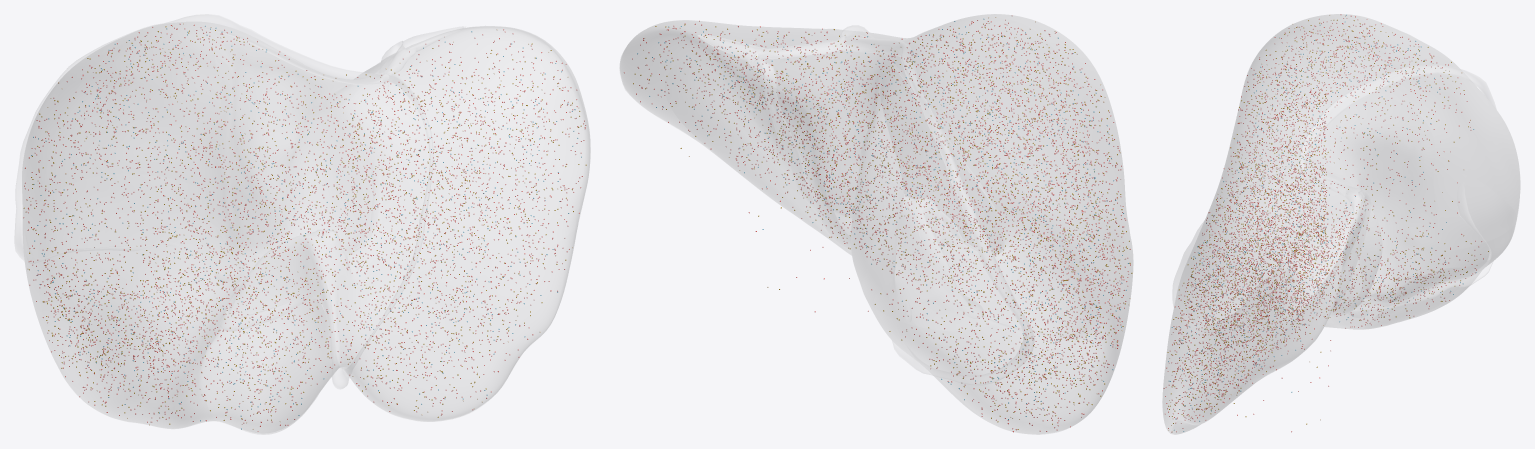
The model's file is 3d-vh-f-liver-UBERON_0002107-all-as-celltypist-sphere-hra-pop.glb.
3 views of the same model, side by side, from view 1: azimuth 30°, elevation 25°; view 2: azimuth 150°, elevation 25°; view 3: azimuth 270°, elevation 25° (orthographic). The views are drawn at different scales.
Visible parts, largest first — view 1: VH_F_capsule_of_the_liver, VH_F_left_anterolateral_segment, VH_F_left_superomedial_segment, VH_F_right_anteroinferior_segment, VH_F_right_posterosuperior_segment, VH_F_coronary_ligament_of_liver, VH_F_falciform_ligament, VH_F_right_posteroinferior_segment; view 2: VH_F_capsule_of_the_liver, VH_F_left_superomedial_segment, VH_F_bare_area_of_liver, VH_F_right_anterosuperior_segment, VH_F_coronary_ligament_of_liver, VH_F_right_anteroinferior_segment, VH_F_right_posteroinferior_segment, VH_F_ligamentum_venosum, VH_F_right_posterosuperior_segment, VH_F_triangular_ligament_of_liver; view 3: VH_F_capsule_of_the_liver, VH_F_right_posterosuperior_segment, VH_F_right_anterosuperior_segment, VH_F_bare_area_of_liver, VH_F_left_anterolateral_segment, VH_F_coronary_ligament_of_liver, VH_F_right_posteroinferior_segment, VH_F_left_superomedial_segment, VH_F_falciform_ligament, VH_F_caudate_lobe, VH_F_ligamentum_venosum, VH_F_left_superomedial_segment1.
Boxes of the visible parts, x1,y1,x2,y2 form: VH_F_capsule_of_the_liver: [22, 22, 589, 434]; VH_F_left_anterolateral_segment: [346, 228, 576, 420]; VH_F_left_superomedial_segment: [389, 27, 589, 224]; VH_F_right_anteroinferior_segment: [72, 303, 223, 427]; VH_F_right_posterosuperior_segment: [22, 28, 147, 220]; VH_F_coronary_ligament_of_liver: [15, 14, 409, 259]; VH_F_falciform_ligament: [348, 74, 432, 372]; VH_F_right_posteroinferior_segment: [23, 234, 56, 363]; VH_F_capsule_of_the_liver: [620, 14, 1132, 434]; VH_F_left_superomedial_segment: [621, 21, 841, 141]; VH_F_bare_area_of_liver: [850, 91, 903, 349]; VH_F_right_anterosuperior_segment: [957, 14, 1129, 235]; VH_F_coronary_ligament_of_liver: [769, 36, 1034, 384]; VH_F_right_anteroinferior_segment: [1062, 251, 1132, 429]; VH_F_right_posteroinferior_segment: [869, 303, 1042, 433]; VH_F_ligamentum_venosum: [751, 56, 816, 212]; VH_F_right_posterosuperior_segment: [851, 169, 866, 284]; VH_F_triangular_ligament_of_liver: [698, 34, 767, 63]; VH_F_capsule_of_the_liver: [1163, 14, 1458, 434]; VH_F_right_posterosuperior_segment: [1393, 29, 1519, 213]; VH_F_right_anterosuperior_segment: [1249, 14, 1392, 109]; VH_F_bare_area_of_liver: [1347, 92, 1519, 264]; VH_F_left_anterolateral_segment: [1163, 303, 1251, 433]; VH_F_coronary_ligament_of_liver: [1299, 65, 1495, 311]; VH_F_right_posteroinferior_segment: [1422, 225, 1514, 314]; VH_F_left_superomedial_segment: [1258, 204, 1364, 379]; VH_F_falciform_ligament: [1173, 163, 1298, 305]; VH_F_caudate_lobe: [1339, 207, 1381, 305]; VH_F_ligamentum_venosum: [1333, 189, 1370, 308]; VH_F_left_superomedial_segment1: [1207, 111, 1238, 215].
Size of the model in its own units: 0.2471 by 0.17 by 0.1663.
